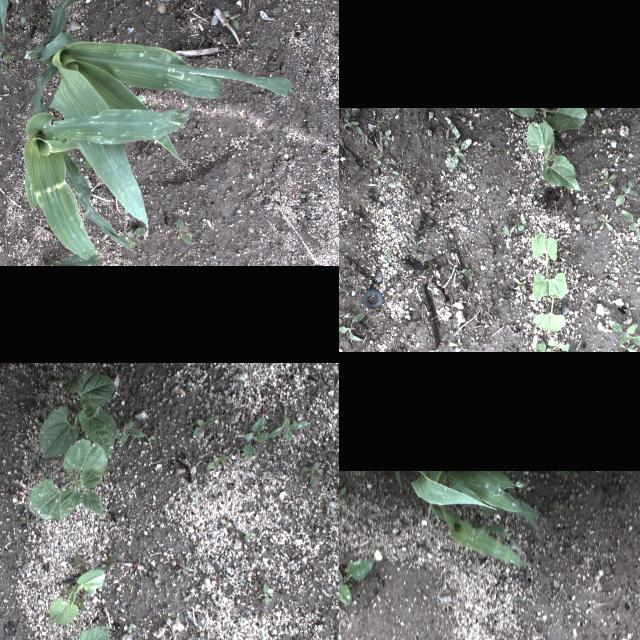crop: (23, 0, 291, 228), (22, 98, 192, 264), (411, 471, 539, 532), (38, 369, 116, 458), (27, 438, 109, 522), (426, 504, 526, 566), (0, 0, 159, 38), (526, 120, 580, 190), (49, 569, 105, 625), (531, 232, 567, 302), (508, 108, 586, 132), (534, 290, 566, 332), (535, 339, 569, 352), (396, 472, 402, 488)
weed: (232, 417, 268, 461), (339, 558, 371, 606), (266, 416, 308, 442), (606, 320, 640, 347), (108, 421, 144, 444), (339, 313, 365, 342), (448, 138, 470, 172), (298, 461, 324, 487), (191, 414, 219, 438), (614, 177, 636, 207), (621, 210, 640, 241), (122, 226, 148, 248), (342, 110, 364, 136), (173, 220, 195, 244), (596, 170, 616, 192), (0, 39, 11, 74), (205, 454, 229, 470), (444, 116, 458, 140), (104, 552, 122, 570), (221, 7, 237, 27), (110, 558, 132, 572), (70, 592, 86, 610), (143, 426, 155, 450), (18, 512, 36, 528), (596, 213, 612, 230), (30, 454, 46, 471), (548, 500, 570, 512), (86, 582, 104, 596), (458, 264, 472, 280), (314, 445, 330, 459), (173, 562, 189, 576), (72, 555, 88, 569), (262, 583, 272, 605), (0, 20, 9, 43), (617, 343, 639, 352), (512, 278, 526, 292), (588, 168, 602, 182), (448, 338, 462, 352), (37, 414, 51, 428), (30, 566, 44, 580), (240, 530, 256, 542), (150, 563, 162, 579), (554, 471, 578, 479), (391, 170, 402, 187), (381, 129, 389, 151), (282, 372, 294, 386), (518, 212, 526, 232), (329, 507, 339, 523), (0, 236, 10, 251), (623, 303, 635, 315), (585, 194, 597, 206), (440, 168, 450, 182), (206, 492, 220, 502), (307, 456, 321, 466), (28, 460, 36, 476), (416, 269, 426, 281), (478, 140, 490, 150), (149, 424, 159, 436), (190, 496, 198, 510), (372, 154, 383, 164), (416, 233, 426, 244), (106, 9, 115, 21), (296, 192, 306, 202), (249, 38, 259, 48), (599, 119, 609, 129), (130, 562, 140, 572), (42, 473, 52, 483), (452, 132, 460, 144), (339, 484, 344, 503), (502, 226, 510, 237), (14, 258, 24, 266), (334, 625, 339, 640), (516, 186, 522, 198), (633, 269, 640, 279), (236, 617, 244, 625), (66, 558, 74, 566), (590, 222, 596, 232), (518, 175, 528, 181), (391, 255, 397, 265), (126, 624, 132, 634), (186, 378, 192, 387), (426, 180, 432, 188), (638, 132, 640, 144), (104, 624, 110, 628), (162, 448, 166, 452), (112, 626, 116, 630)
